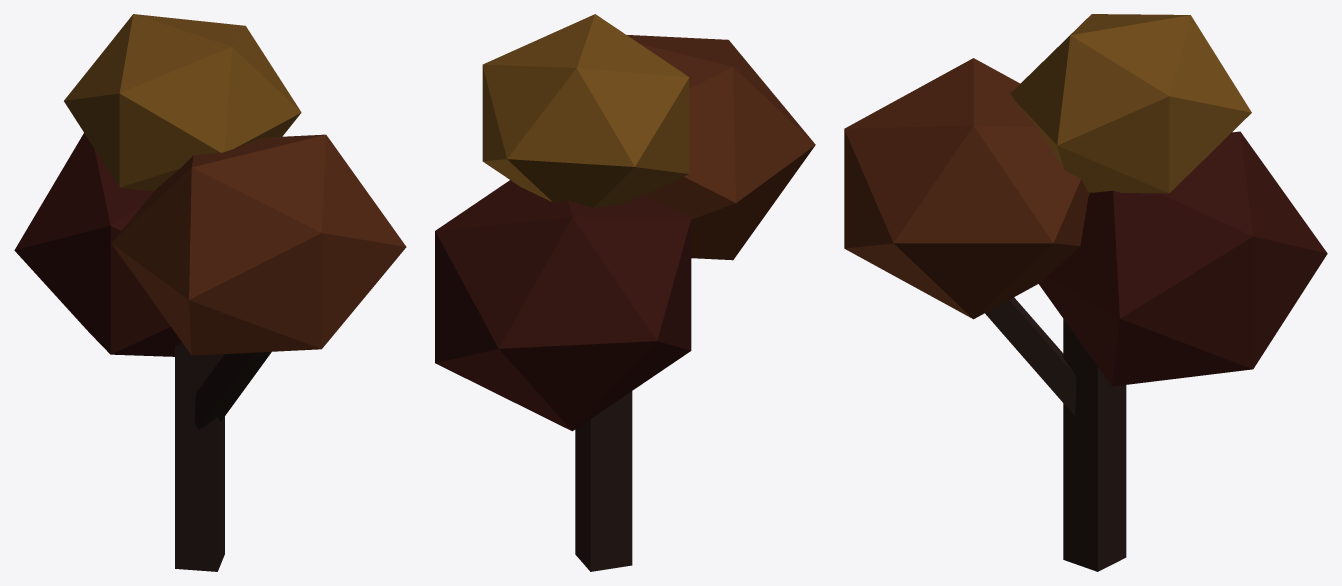
The model's file is tree_maple_1.fbx.
3 renders of one model, left to right at view 1: azimuth 30°, elevation 25°; view 2: azimuth 150°, elevation 25°; view 3: azimuth 270°, elevation 25°, orthographic. The views are drawn at different scales.
Visible parts, largest first — view 1: tree_maple; view 2: tree_maple; view 3: tree_maple.
Boxes of the visible parts, bbox=[...] form: tree_maple: bbox=[14, 14, 406, 571]; tree_maple: bbox=[435, 14, 815, 571]; tree_maple: bbox=[844, 14, 1327, 571].
Size of the model in its own units: 42.49 by 88.51 by 72.7.
